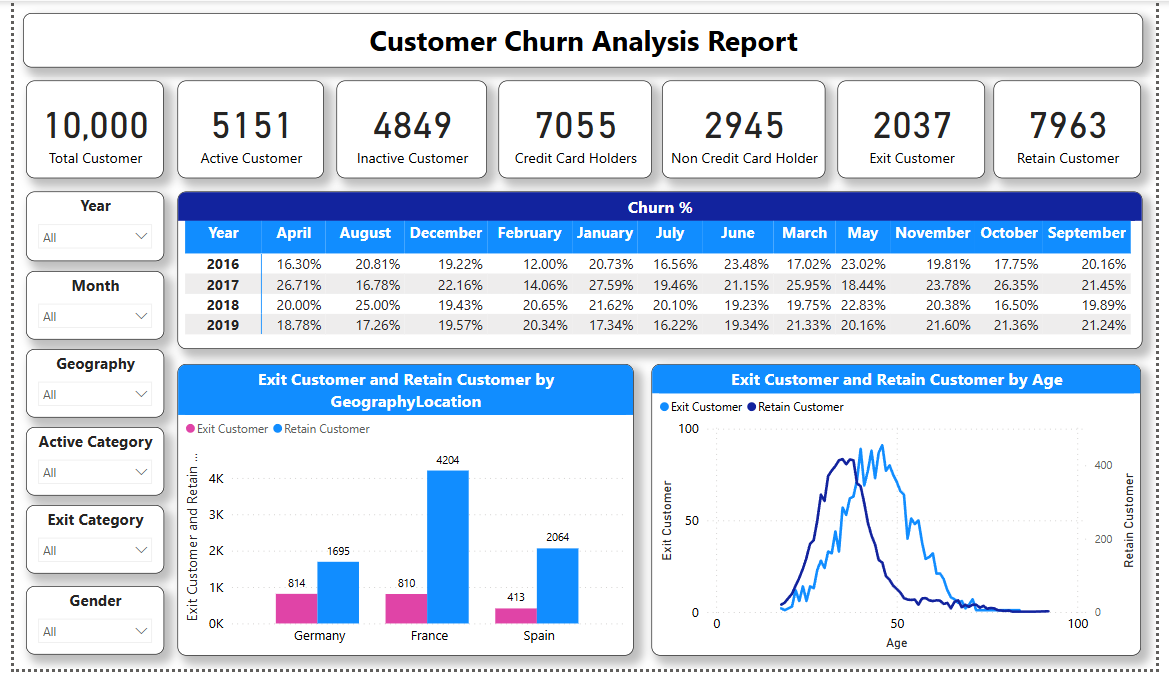

This screenshot's page, from the dashboard's own definition file:
{"tool":"powerbi","page":{"name":"Dashboard_2","canvas":[1300,760],"ordinal":2},"visuals":[{"type":"textbox","box":[10,13.3,1275,61.7],"z":0},{"type":"card","fields":{"Values":["Bank_Churn.Total Customer"]},"box":[14.2,90.7,156.9,111.6],"z":1000},{"type":"card","fields":{"Values":["Bank_Churn.Active Customer"]},"box":[185.7,90.7,166.7,111.6],"z":2000},{"type":"card","fields":{"Values":["Bank_Churn.InActive Customer"]},"box":[366.9,90.7,171.5,111.6],"z":3000},{"type":"card","fields":{"Values":["Bank_Churn.Credit Card Holder"]},"box":[551.3,90.7,174.7,111.6],"z":4000},{"type":"card","fields":{"Values":["Bank_Churn.Non Credit Card Holder"]},"box":[737.4,90.7,186.1,111.6],"z":5000},{"type":"card","fields":{"Values":["Bank_Churn.Exit Customer"]},"box":[938,90.7,168.3,111.6],"z":6000},{"type":"card","fields":{"Values":["Bank_Churn.Retain Customer"]},"box":[1116,90.7,168.3,111.6],"z":7000},{"type":"slicer","title":"Year","fields":{"Values":["Date Master.Year"]},"box":[14,217.3,157.1,79.4],"z":8000},{"type":"slicer","title":"Month","fields":{"Values":["Date Master.Month"]},"box":[14,307.8,157.1,77.8],"z":9000},{"type":"slicer","title":"Geography","fields":{"Values":["Geography.GeographyLocation"]},"box":[14,396.7,157.1,77.8],"z":10000},{"type":"slicer","title":"Active Category","fields":{"Values":["ActiveCustomer.ActiveCategory"]},"box":[14,485.6,157.1,77.8],"z":11000},{"type":"slicer","title":"Exit Category","fields":{"Values":["Exit Customer.ExitCategory"]},"box":[14,574.4,157.1,77.8],"z":12000},{"type":"slicer","title":"Gender","fields":{"Values":["Gender.GenderCategory"]},"box":[14,666.5,157.1,77.8],"z":13000},{"type":"pivotTable","title":"Churn %","fields":{"Rows":["Date Master.Year"],"Columns":["Date Master.Month"],"Values":["Bank_Churn.Churn%"]},"box":[185.4,217.3,1098.4,179.4],"z":14000},{"type":"clusteredColumnChart","fields":{"Category":["Geography.GeographyLocation"],"Y":["Bank_Churn.Exit Customer","Bank_Churn.Retain Customer"]},"box":[185.4,412.5,519,331.7],"z":15000},{"type":"lineChart","fields":{"Category":["Bank_Churn.Age"],"Y":["Bank_Churn.Exit Customer"],"Y2":["Bank_Churn.Retain Customer"]},"box":[726.7,412.5,557.1,331.7],"z":16000}]}

Visuals, with their boxes in screenshot pixels (x1, y1, x2, y2), scaled from the page's 1300x760 canvas onto the 1169x679 screenshot:
textbox: locate(9, 12, 1156, 67)
card - Bank_Churn.Total Customer: locate(13, 81, 154, 181)
card - Bank_Churn.Active Customer: locate(167, 81, 317, 181)
card - Bank_Churn.InActive Customer: locate(330, 81, 484, 181)
card - Bank_Churn.Credit Card Holder: locate(496, 81, 653, 181)
card - Bank_Churn.Non Credit Card Holder: locate(663, 81, 830, 181)
card - Bank_Churn.Exit Customer: locate(843, 81, 995, 181)
card - Bank_Churn.Retain Customer: locate(1004, 81, 1155, 181)
"Year" slicer: locate(13, 194, 154, 265)
"Month" slicer: locate(13, 275, 154, 345)
"Geography" slicer: locate(13, 354, 154, 424)
"Active Category" slicer: locate(13, 434, 154, 503)
"Exit Category" slicer: locate(13, 513, 154, 583)
"Gender" slicer: locate(13, 595, 154, 665)
"Churn %" pivotTable: locate(167, 194, 1154, 354)
clusteredColumnChart - Geography.GeographyLocation x Bank_Churn.Exit Customer: locate(167, 369, 633, 665)
lineChart - Bank_Churn.Age x Bank_Churn.Exit Customer: locate(653, 369, 1154, 665)
